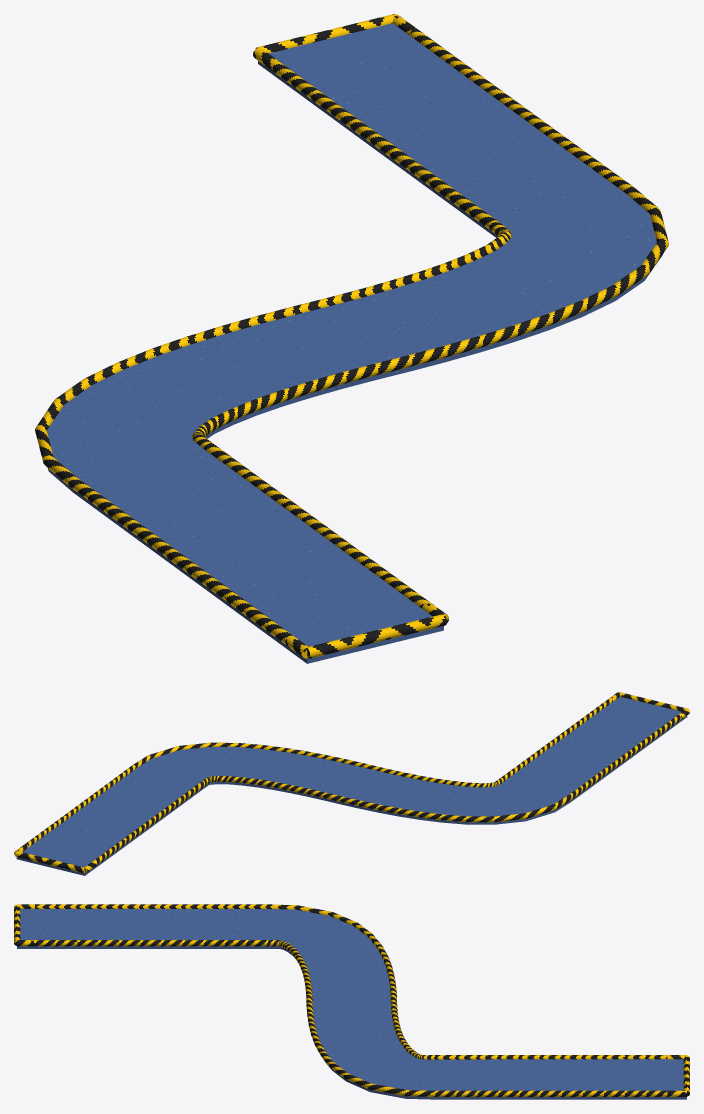
Rendered from GregBallTutLevel.fbx.
3 renders of one model, top to bottom at view 1: azimuth 30°, elevation 25°; view 2: azimuth 150°, elevation 25°; view 3: azimuth 270°, elevation 25°, orthographic. The views are drawn at different scales.
Visible parts, largest first — view 1: Cube; view 2: Cube; view 3: Cube.
Boxes of the visible parts, x1=… form: Cube: x1=35, y1=14, x2=668, y2=663; Cube: x1=14, y1=692, x2=689, y2=875; Cube: x1=14, y1=904, x2=689, y2=1099.
Bounding box in the file's own units: 4240 × 89.93 × 6407.
Materials: 2 (2 with a texture image).
